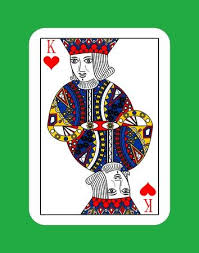king of hearts: (29, 28, 170, 225)
